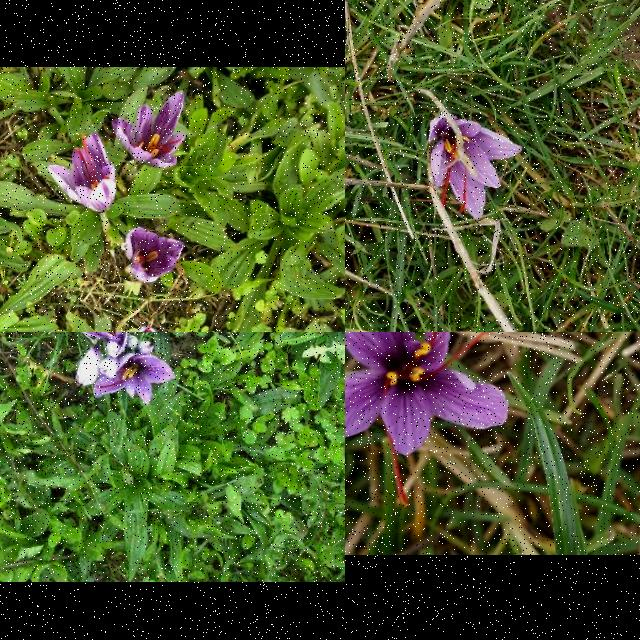flower: (345, 332, 546, 508), (430, 116, 522, 218), (113, 90, 187, 168), (47, 130, 116, 212), (126, 226, 184, 284)
overlap: (73, 332, 176, 406)
